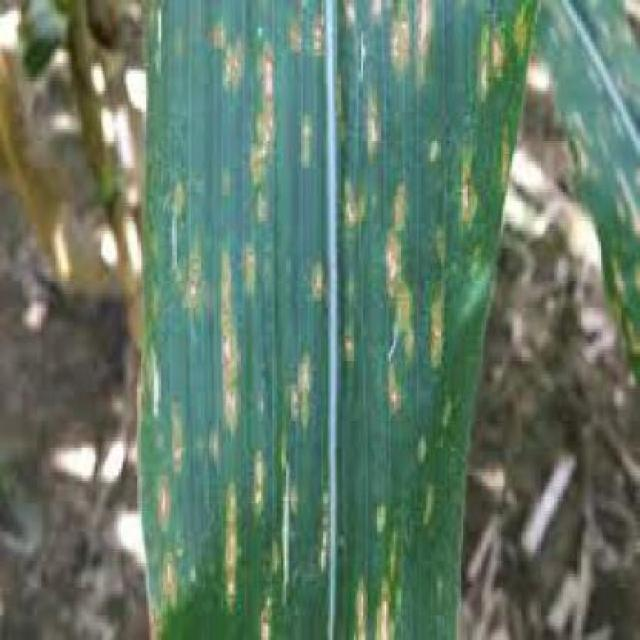Corn_Grey_Leaf_Spot: (117, 0, 509, 640)
